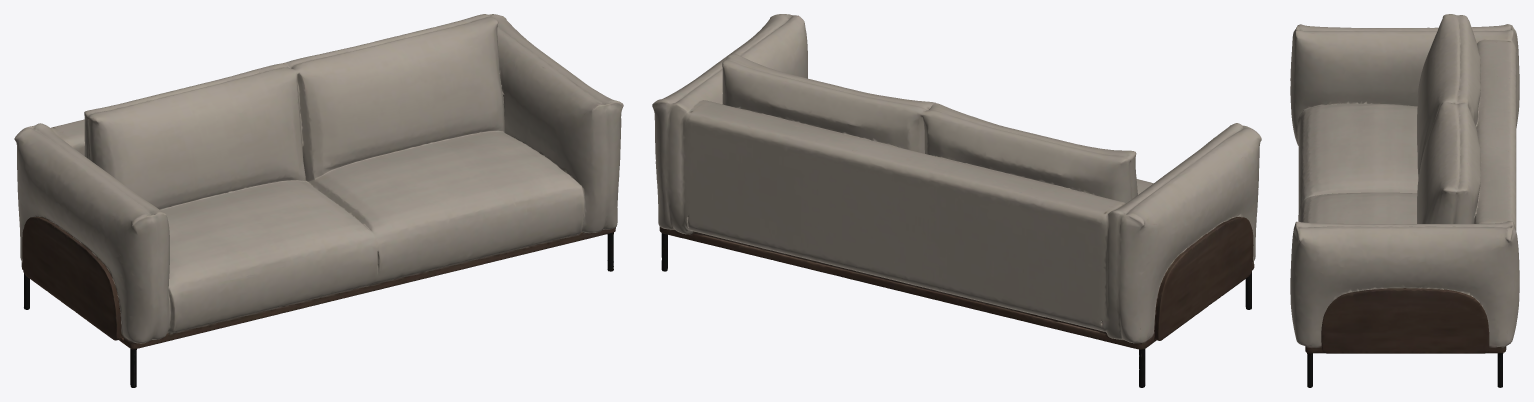
Rendered from Sofa.glb.
The picture shows the model from 3 angles, left to right: view 1: azimuth 30°, elevation 25°; view 2: azimuth 150°, elevation 25°; view 3: azimuth 270°, elevation 25°; orthographic projection. The views are drawn at different scales.
Visible parts, largest first — view 1: world; view 2: world; view 3: world.
Part boxes in pixels (<box>): world: <box>14,14,623,387</box>; world: <box>652,14,1261,387</box>; world: <box>1290,14,1519,387</box>.
Bounding box in the file's own units: 1 × 0.3896 × 0.4446.
Materials: 1 (1 with a texture image).
